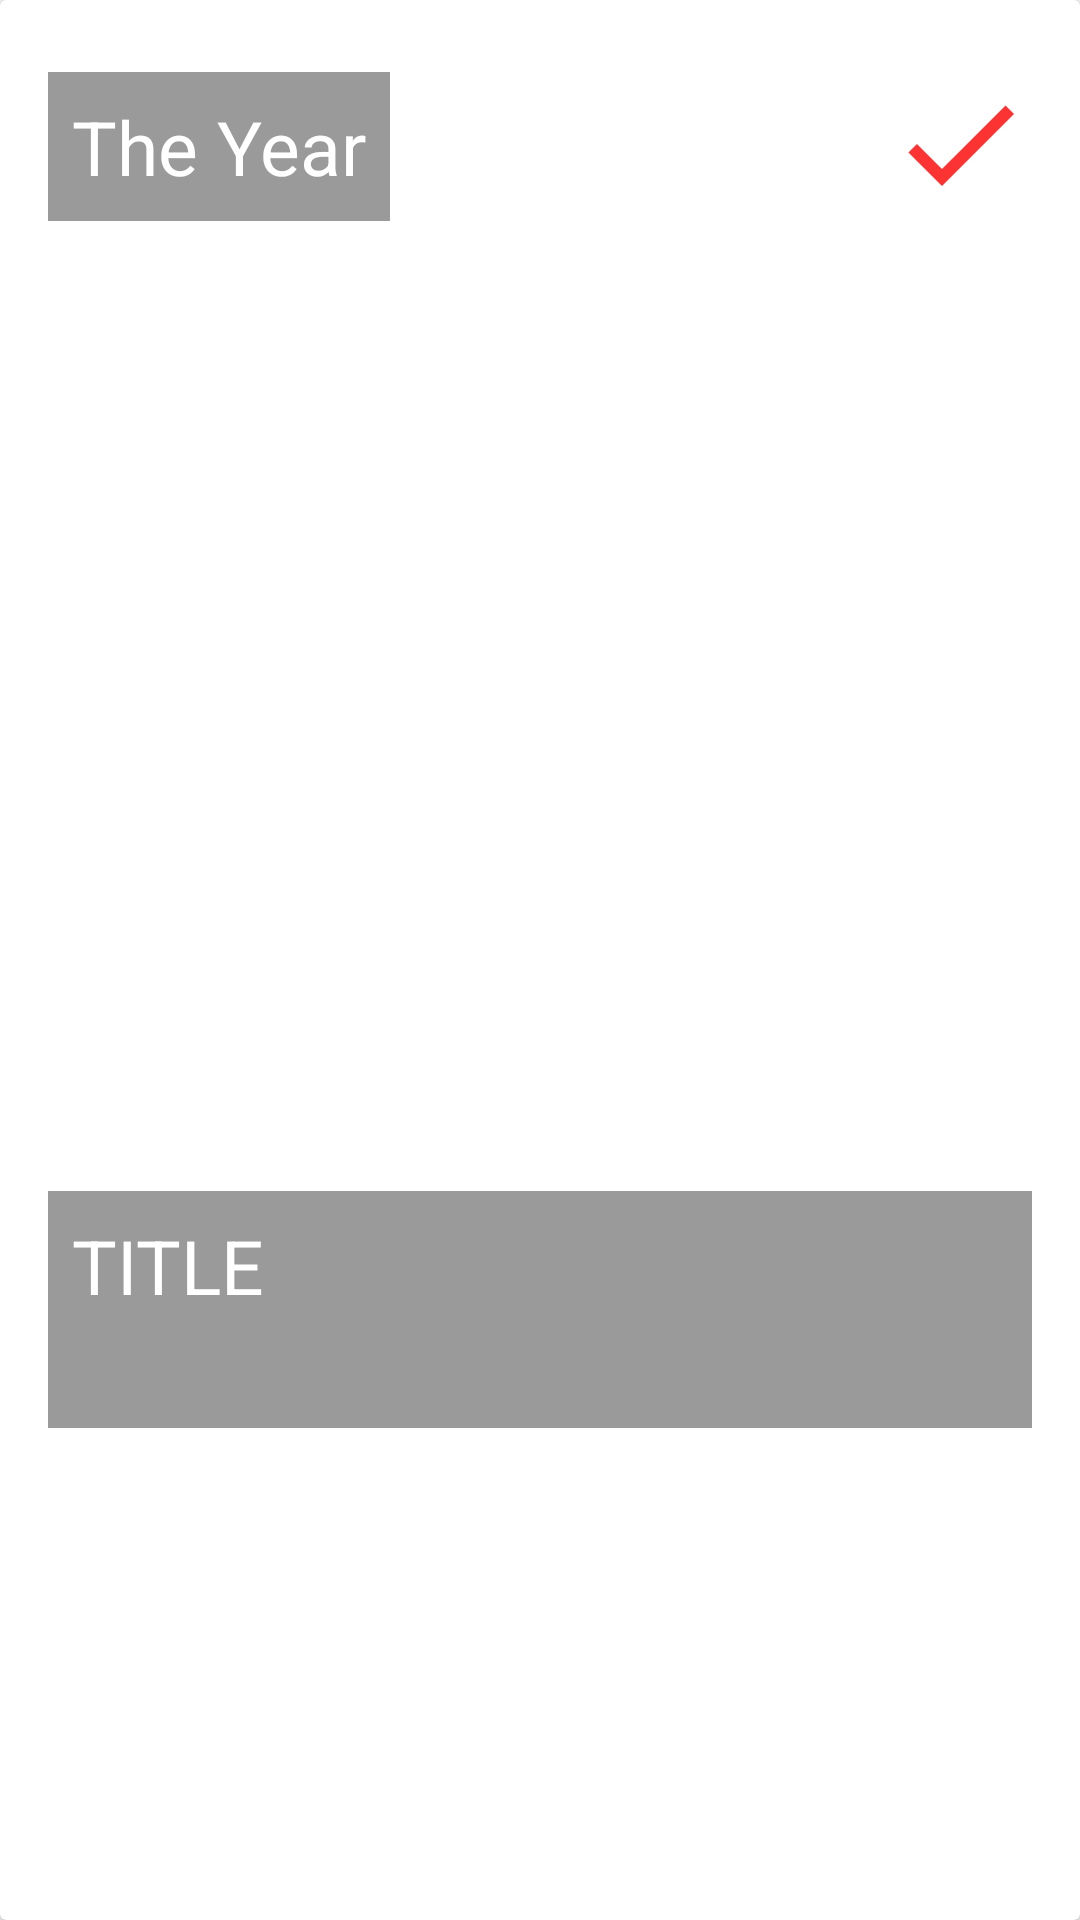

Point at icon controls on the screen. Image size 1080x1920, points as point (x, y).
check: point (961, 145)
